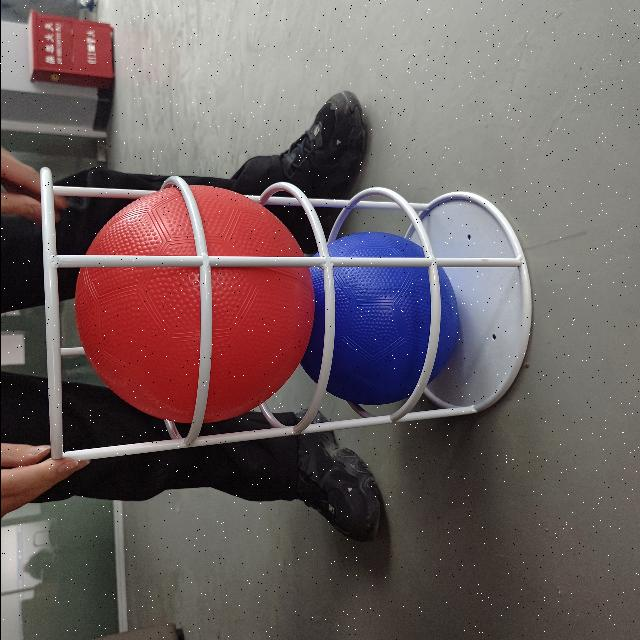B: (297, 232, 461, 408)
R: (75, 173, 331, 421)
S: (32, 162, 546, 464)
